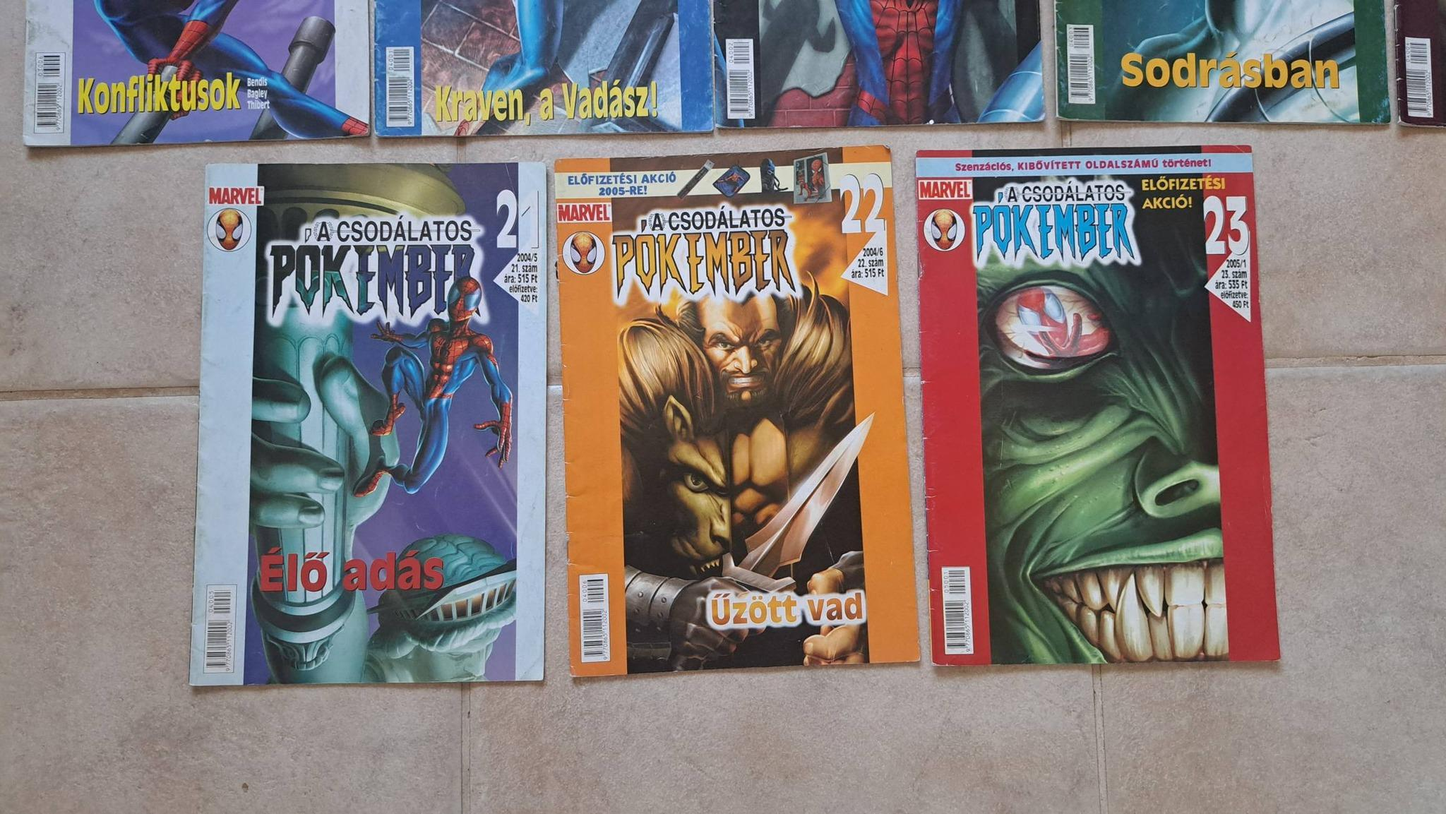comic: (549, 146, 918, 676), (916, 141, 1278, 670), (190, 159, 548, 688)
